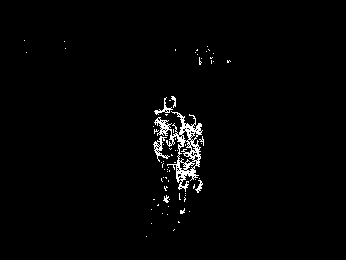person: (153, 95, 184, 205), (173, 113, 206, 216)
